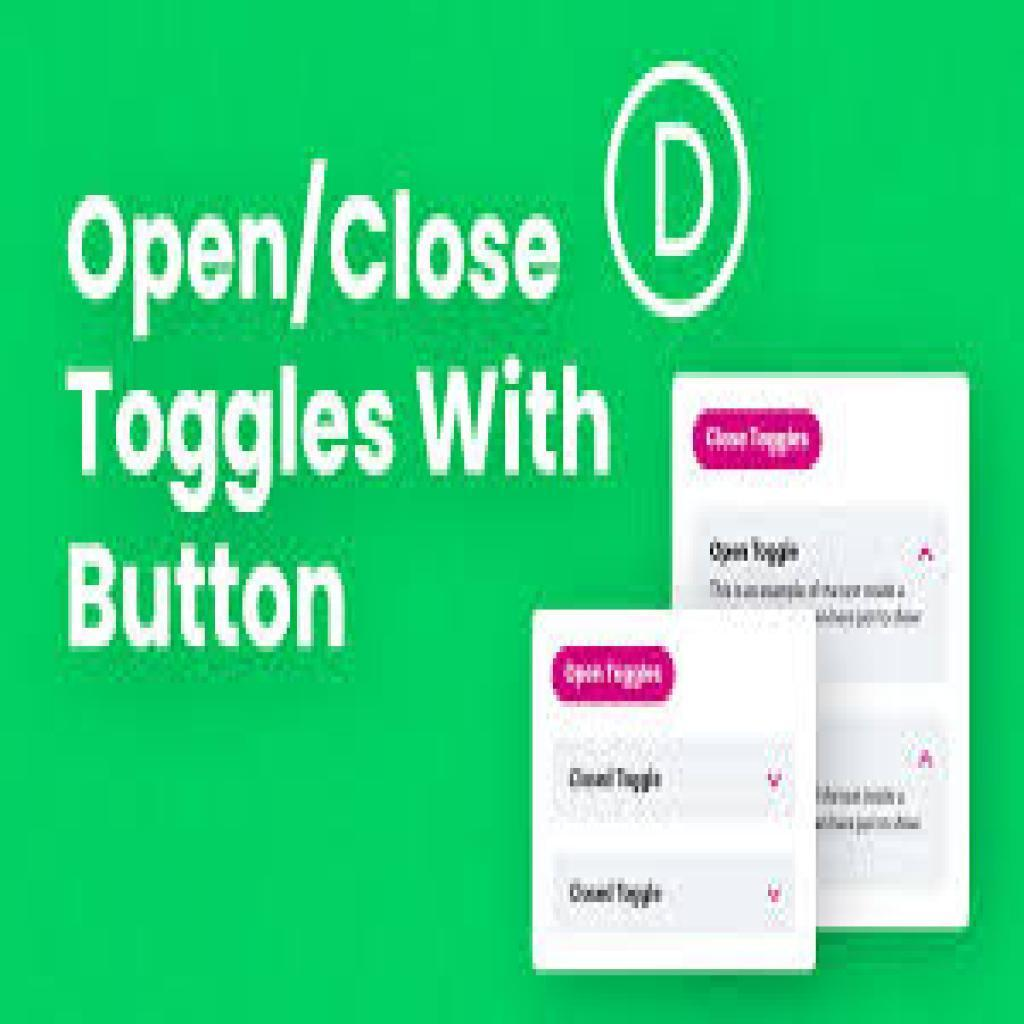dropdown: (551, 735, 804, 813), (555, 853, 795, 934)
